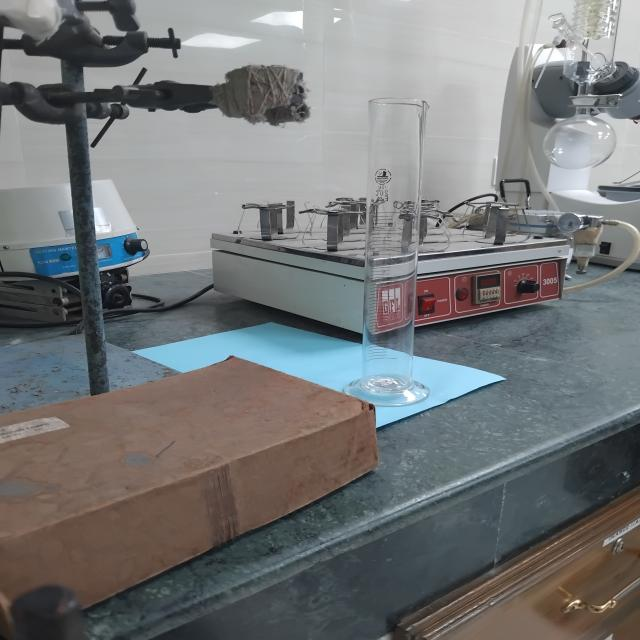Measuring_Cylinder: (292, 46, 474, 448)
